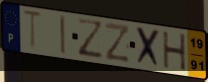H: (161, 31, 187, 73)
I: (58, 15, 67, 57)
T: (21, 8, 43, 52)
X: (135, 25, 162, 70)
Z: (76, 17, 105, 60), (104, 21, 131, 64)
